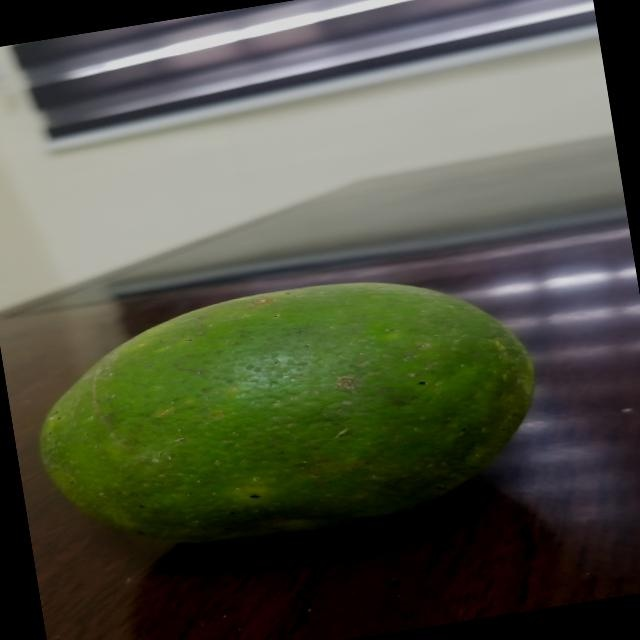agrume: (0, 244, 570, 587)
